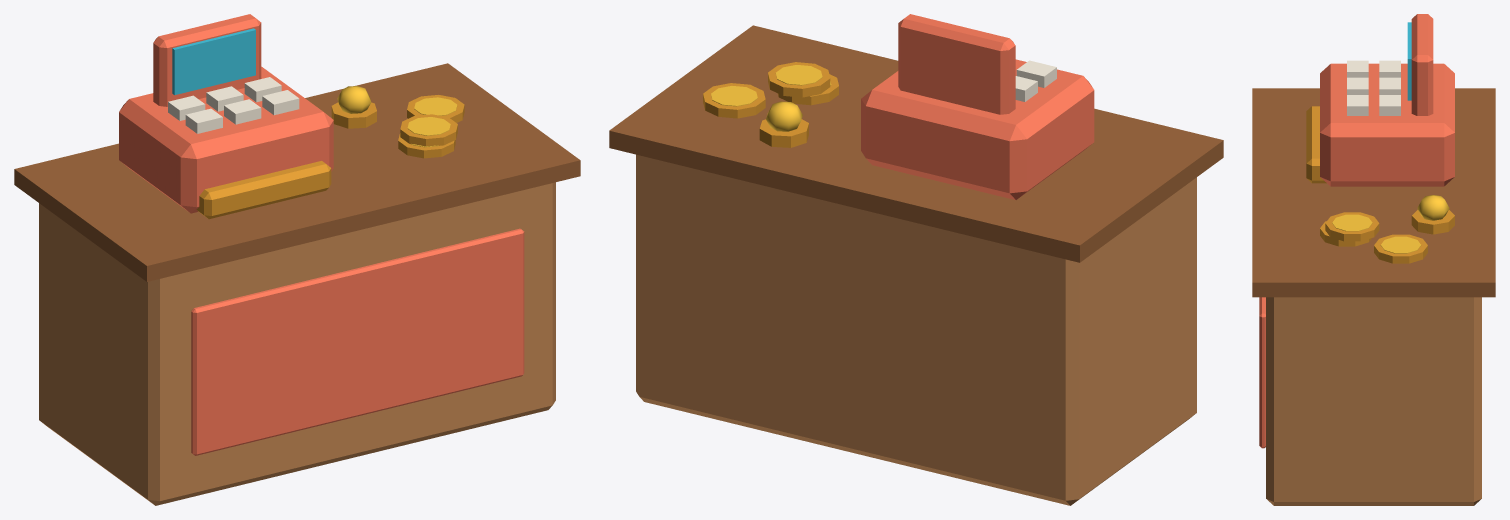
File: till.glb
3 views of the same model, side by side, from view 1: azimuth 30°, elevation 25°; view 2: azimuth 150°, elevation 25°; view 3: azimuth 270°, elevation 25° (orthographic). The views are drawn at different scales.
Visible parts, largest first — view 1: till; view 2: till; view 3: till.
Part boxes in pixels (bbox=[...]): till: bbox=[14, 14, 580, 505]; till: bbox=[609, 14, 1223, 505]; till: bbox=[1252, 14, 1495, 505].
Bounding box in the file's own units: 1.7 × 1.45 × 0.9.
